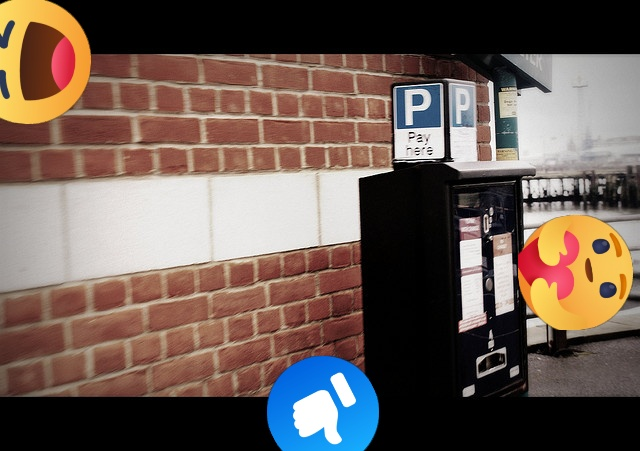care: (518, 215, 633, 330)
haha: (0, 0, 91, 124)
like: (267, 356, 379, 451)
